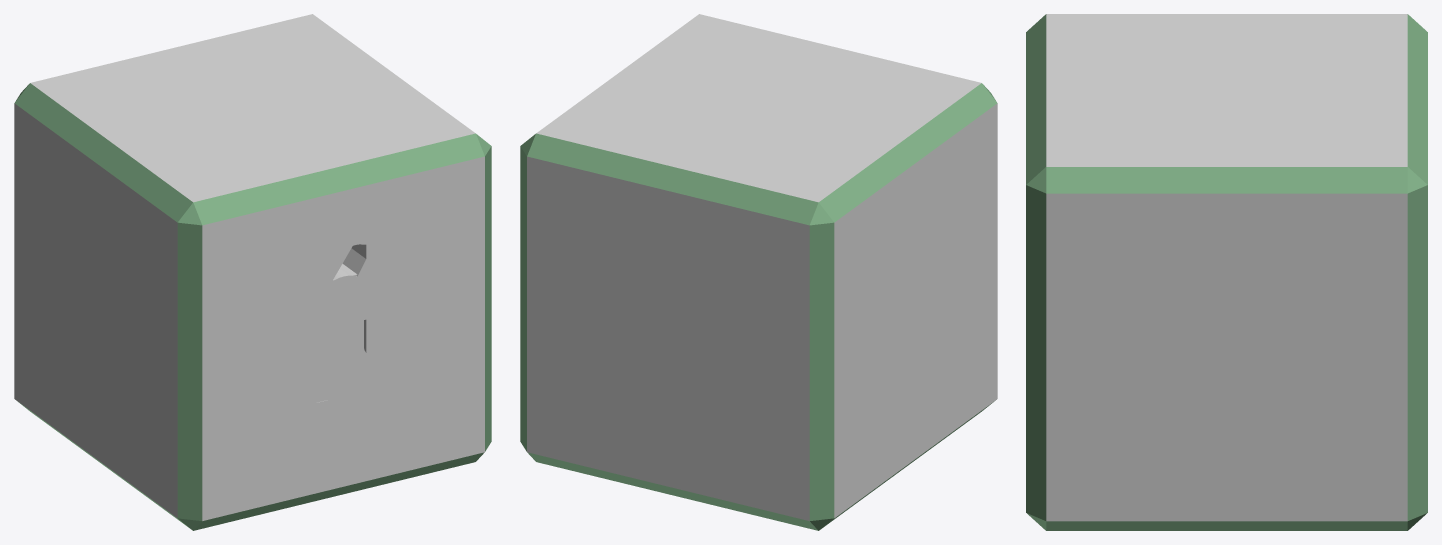
The model's file is JetBrains_Mono_Bold_Spots.fbx.
The picture shows the model from 3 angles, left to right: view 1: azimuth 30°, elevation 25°; view 2: azimuth 150°, elevation 25°; view 3: azimuth 270°, elevation 25°; orthographic projection. The views are drawn at different scales.
Visible parts, largest first — view 1: Bold_1, Bold_2, Bold_3, Bold_4, Bold_6, Bold_7, Bold_8, Bold_5; view 2: Bold_1; view 3: Bold_1.
Boxes of the visible parts, <box> form: Bold_1: <box>14,14,491,530</box>; Bold_2: <box>202,157,484,520</box>; Bold_3: <box>202,157,484,519</box>; Bold_4: <box>202,157,484,519</box>; Bold_6: <box>202,159,484,520</box>; Bold_7: <box>202,159,484,518</box>; Bold_8: <box>202,157,484,520</box>; Bold_5: <box>202,158,484,517</box>; Bold_1: <box>520,14,997,530</box>; Bold_1: <box>1026,14,1427,530</box>.
Size of the model in its own units: 0.2 by 0.2 by 0.2.
